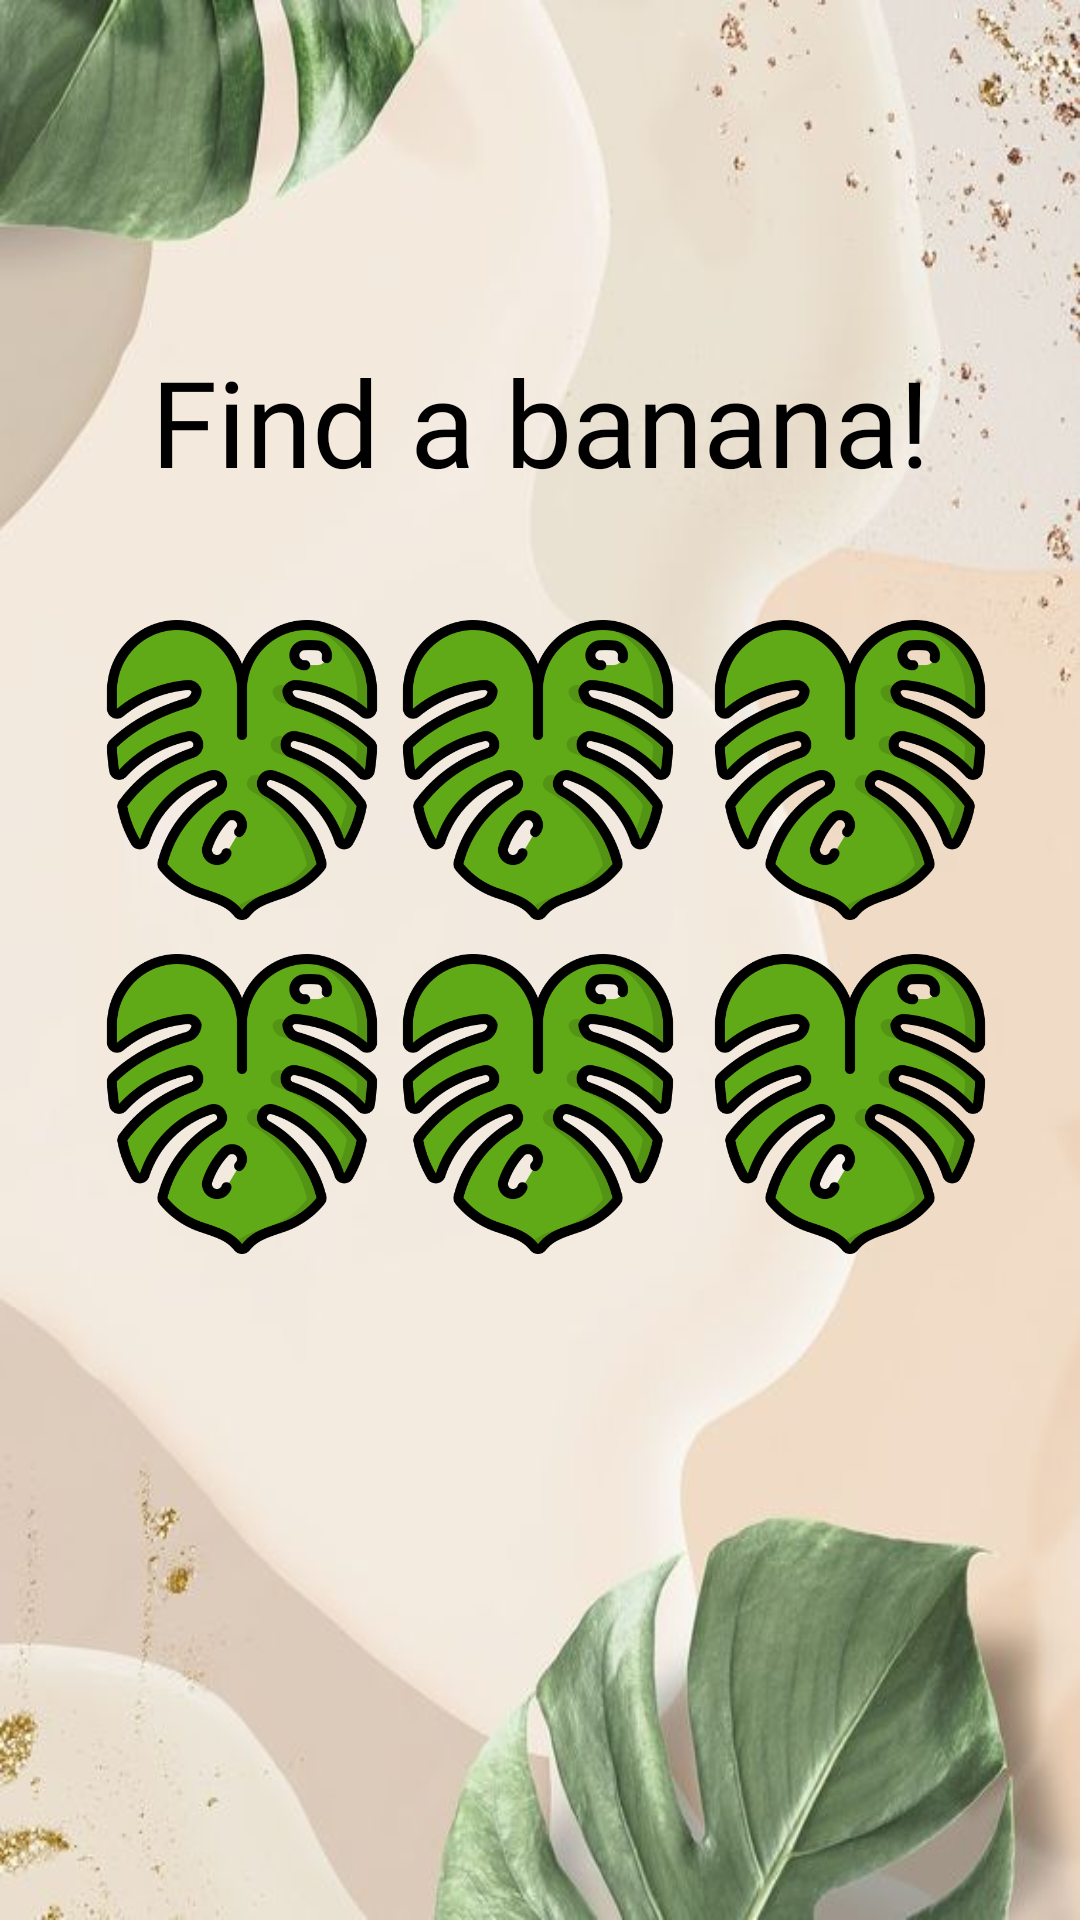

Icons on this 1080x1920 Android screen, each with the point to tap as (x=x, y=y):
leaf: (x=242, y=770), (x=538, y=770), (x=843, y=770), (x=242, y=1104), (x=538, y=1104), (x=843, y=1104)
